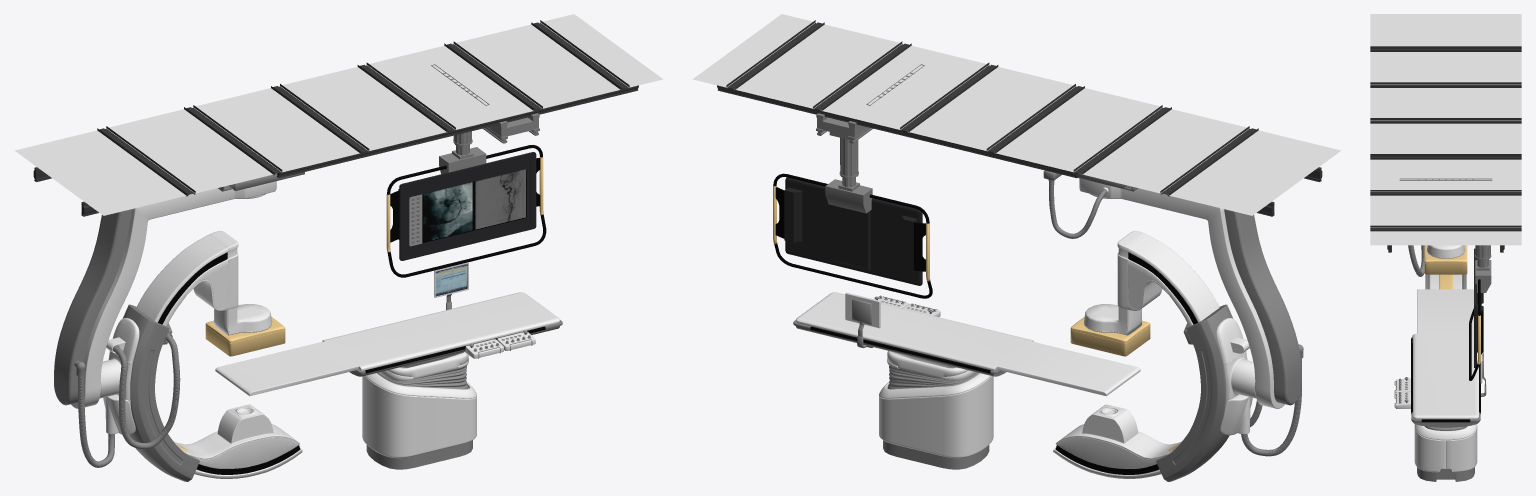
File: X-Ray_Scanner.FBX
3 renders of one model, left to right at view 1: azimuth 30°, elevation 25°; view 2: azimuth 150°, elevation 25°; view 3: azimuth 270°, elevation 25°, orthographic. The views are drawn at different scales.
Parts seen in each view (by area): view 1: xr_top, xr_body_white_bottom, xr_dark_plastic_part, xr_crane_white, xr_rails, xr_crane_part, xr_monitor, xr_monitor_body, xr_top_parts, xr_tubes, xr_monitor_handle, xr_yello (+2 smaller); view 2: xr_top, xr_body_white_bottom, xr_dark_plastic_part, xr_crane_white, xr_monitor_body, xr_crane_part, xr_rails, xr_top_parts, xr_monitor_handle, xr_yello, xr_tubes, xr_crane_metal (+2 smaller); view 3: xr_top, xr_body_white_bottom, xr_rails, xr_dark_plastic_part, xr_yello, xr_top_parts, xr_crane_white, xr_monitor_body, xr_monitor_handle, xr_lie_metal, xr_tubes.
Boxes of the visible parts, x1,y1,x2,y2 form: xr_top: [14, 14, 662, 215]; xr_body_white_bottom: [215, 292, 559, 458]; xr_dark_plastic_part: [54, 209, 562, 481]; xr_crane_white: [136, 231, 302, 478]; xr_rails: [33, 20, 638, 216]; xr_crane_part: [71, 181, 276, 434]; xr_monitor: [422, 169, 526, 296]; xr_monitor_body: [398, 152, 536, 297]; xr_top_parts: [218, 64, 539, 191]; xr_tubes: [77, 334, 180, 467]; xr_monitor_handle: [387, 145, 546, 277]; xr_yello: [177, 317, 285, 450]; xr_top: [693, 14, 1341, 215]; xr_body_white_bottom: [796, 292, 1140, 458]; xr_dark_plastic_part: [793, 209, 1303, 481]; xr_crane_white: [1053, 231, 1219, 478]; xr_monitor_body: [784, 177, 922, 328]; xr_crane_part: [1079, 178, 1284, 435]; xr_rails: [717, 20, 1322, 216]; xr_top_parts: [816, 64, 1137, 213]; xr_monitor_handle: [773, 173, 932, 298]; xr_yello: [1070, 317, 1178, 450]; xr_tubes: [1049, 181, 1301, 456]; xr_crane_metal: [1055, 252, 1197, 474]; xr_top: [1370, 14, 1521, 245]; xr_body_white_bottom: [1395, 289, 1478, 472]; xr_rails: [1370, 46, 1521, 252]; xr_dark_plastic_part: [1411, 274, 1480, 481]; xr_yello: [1424, 245, 1467, 289]; xr_top_parts: [1399, 178, 1492, 292]; xr_crane_white: [1426, 245, 1465, 289]; xr_monitor_body: [1474, 248, 1483, 383]; xr_monitor_handle: [1469, 279, 1482, 380]; xr_lie_metal: [1411, 338, 1480, 422]; xr_tubes: [1408, 245, 1424, 276].
Bounding box in the file's own units: 429 × 261 × 118.
